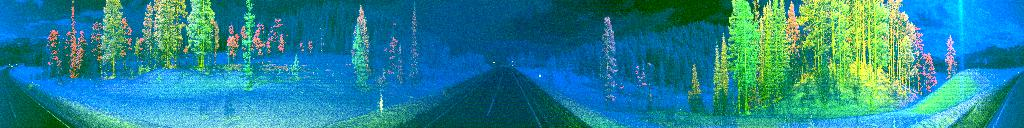pole: (376, 82, 386, 116)
